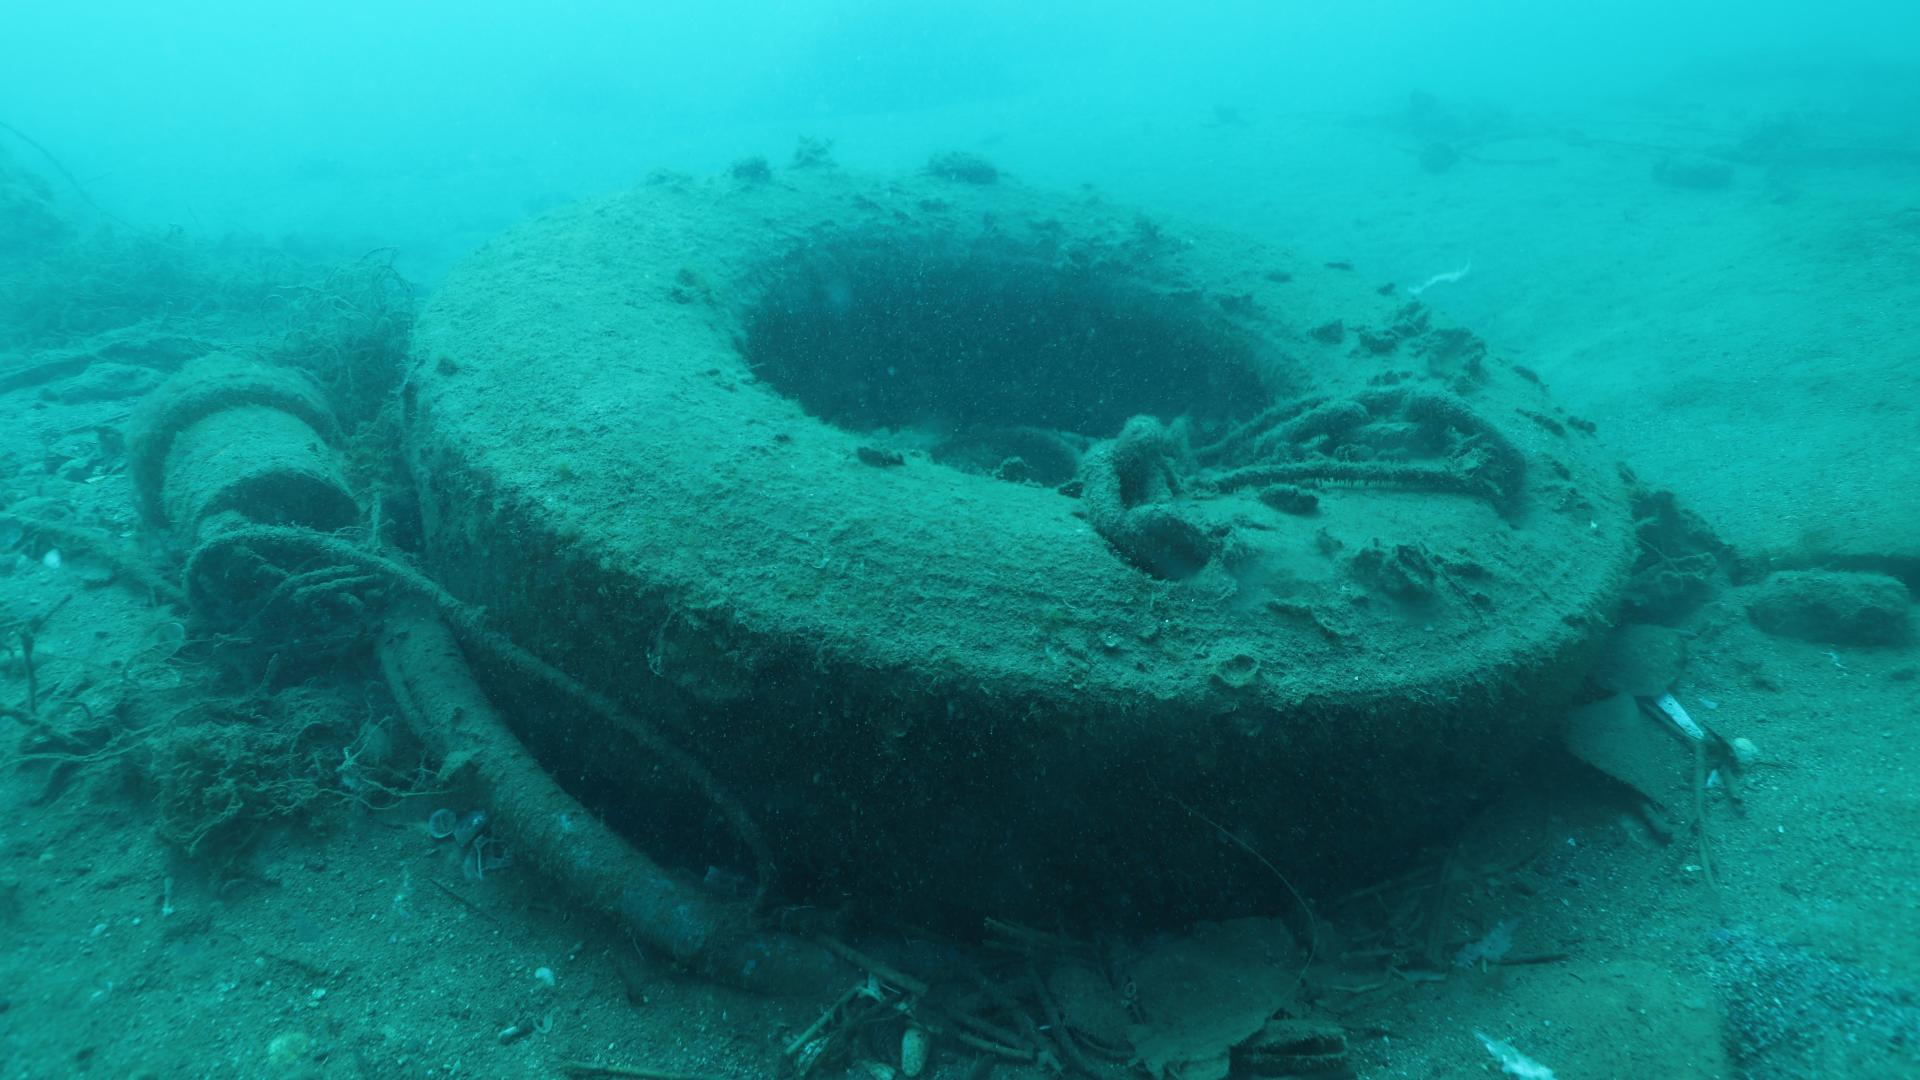rope: (120, 487, 791, 948), (1025, 372, 1567, 555)
tire: (401, 165, 1636, 938)
